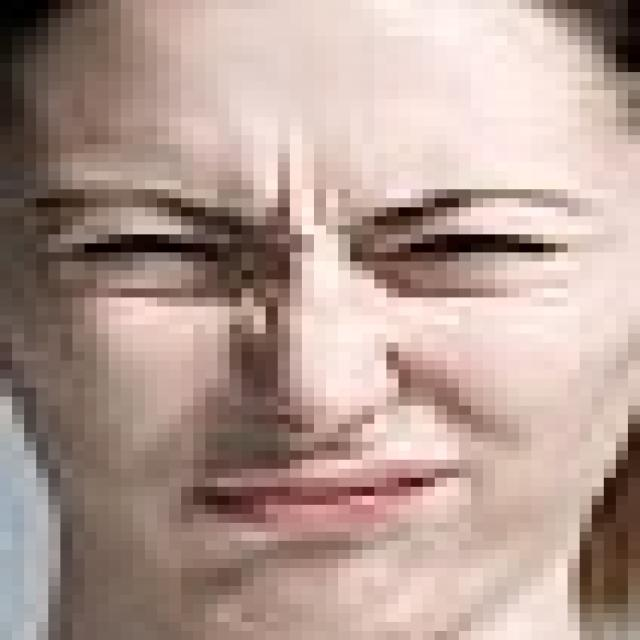Anxiety: (0, 0, 628, 631)
